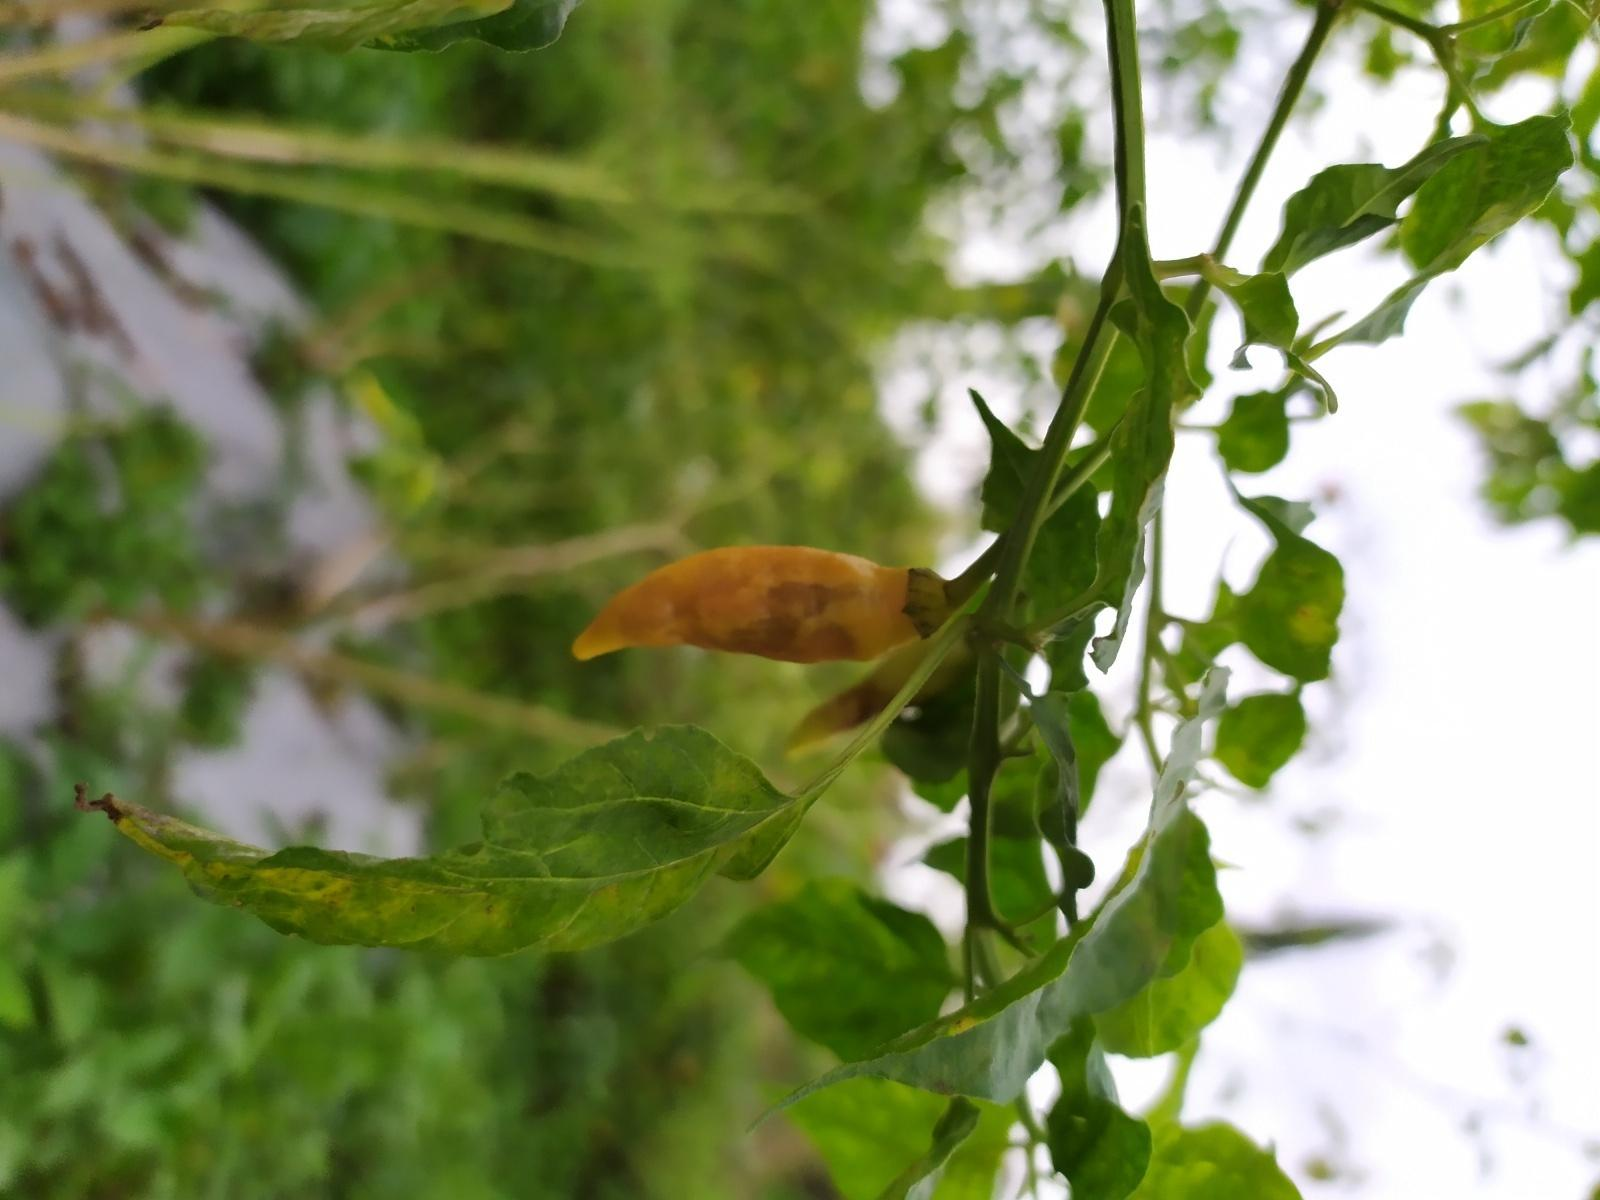lalat_buah: (571, 543, 934, 664)
